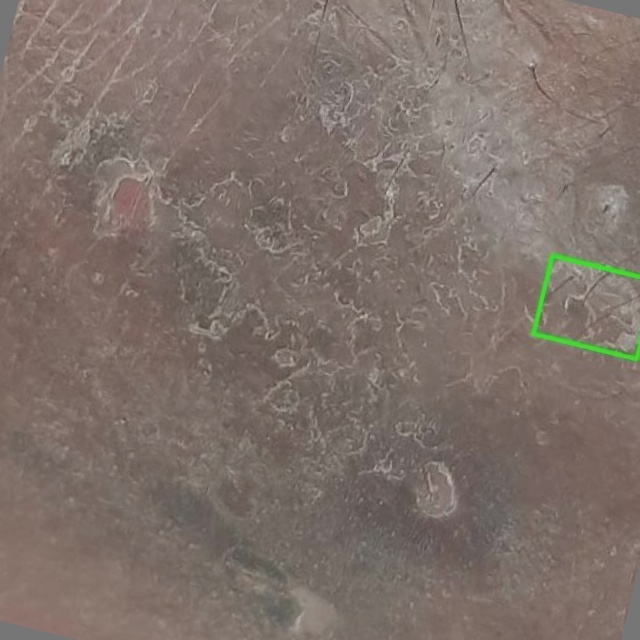Eczema: (533, 255, 639, 358)
